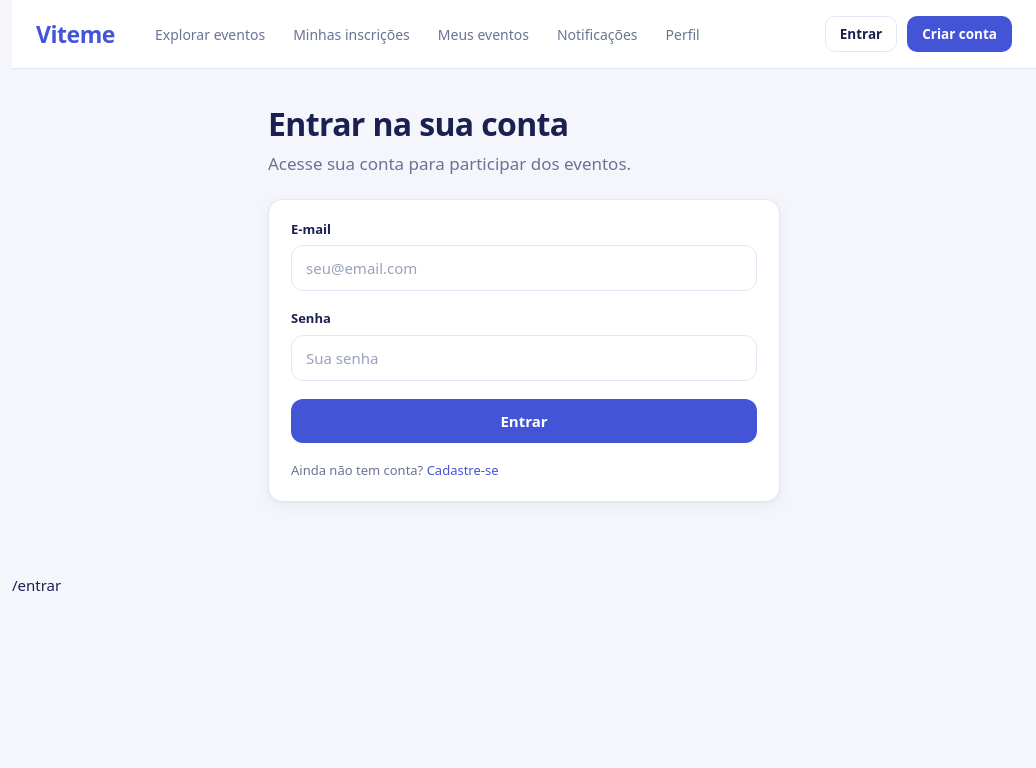
Test case: login e cadastro › CTW01 — credenciais erradas mostram mensagem genérica e reabilitam o botão
In the field labelled "E-mail": (524, 268) [291,245,757,291], type "maria@exemplo.com"
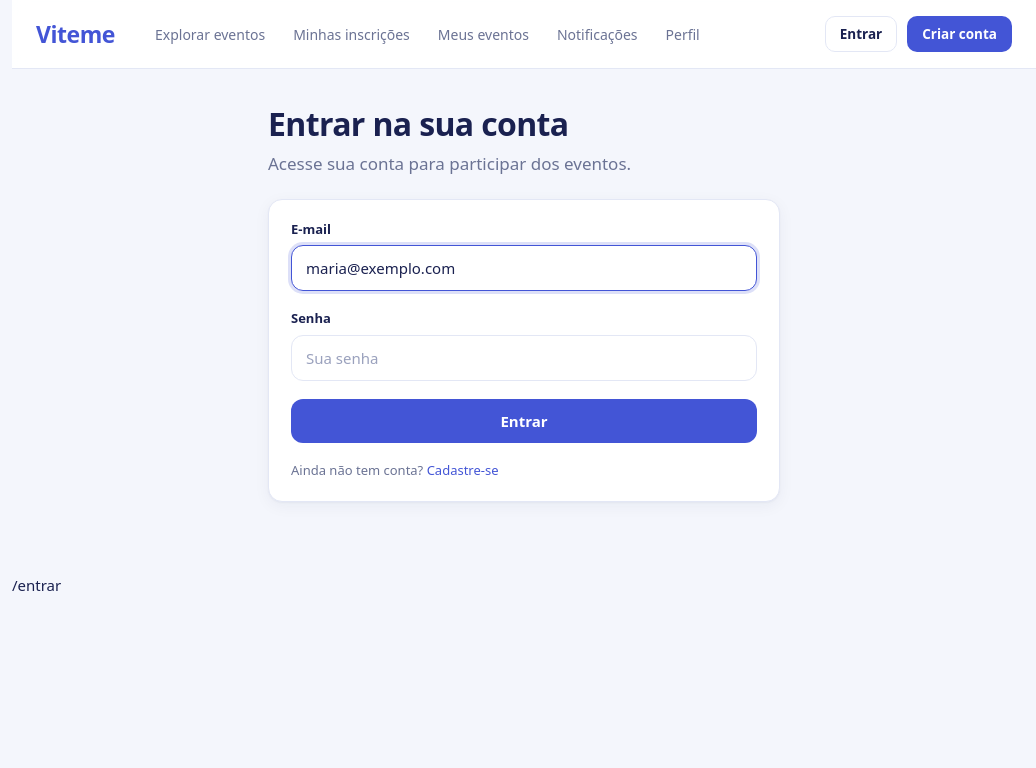
In the password field labelled "Senha": (524, 358) [291,335,757,381], type "errada123"
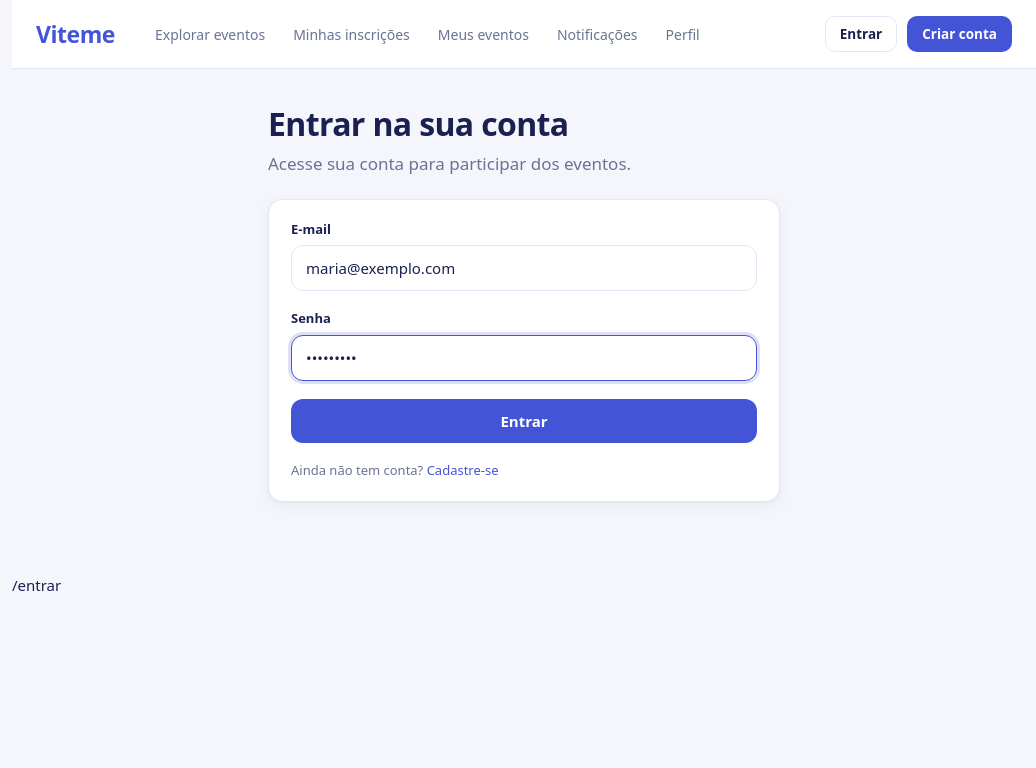
Click the button "Entrar": (524, 421) [291,399,757,443]
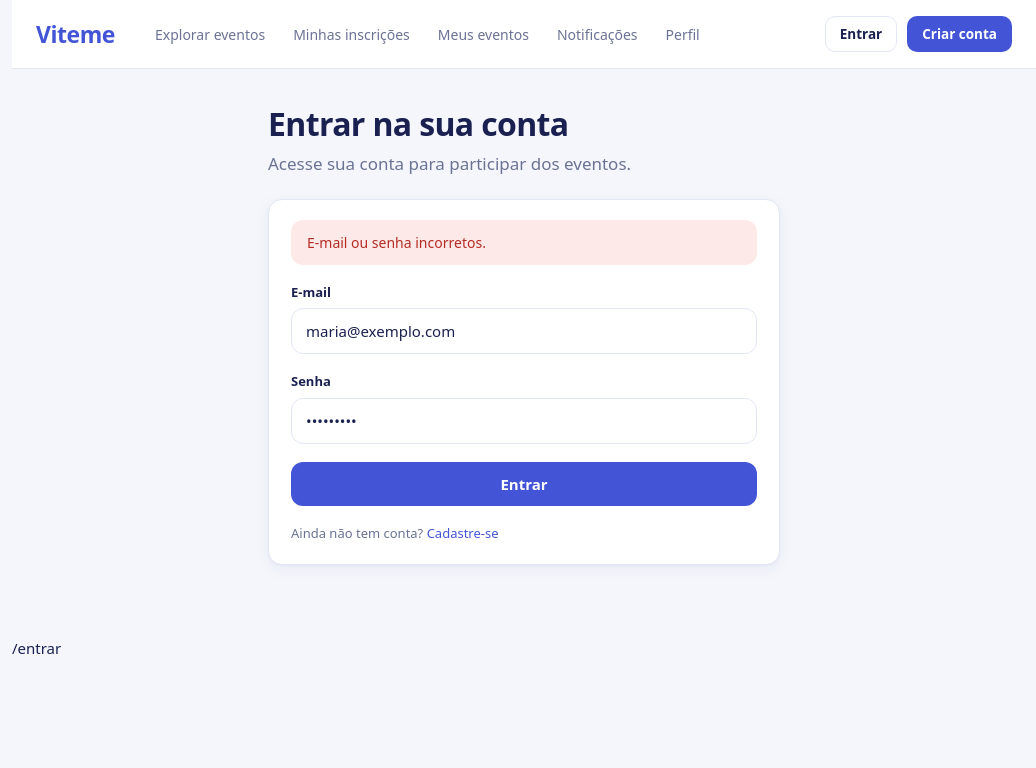
Expected: the button "Entrar" is enabled, [291,462,757,506]
Expected: the message reads "E-mail ou senha incorretos.", [307,233,486,252]
